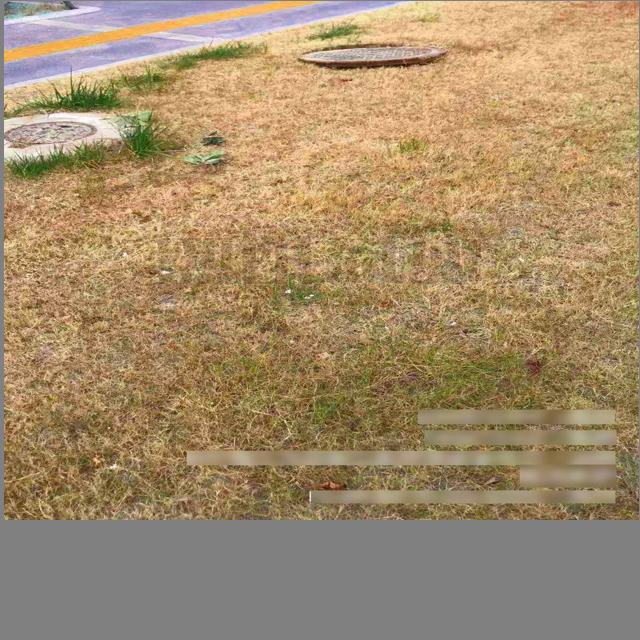uncovered: (300, 43, 448, 72)
